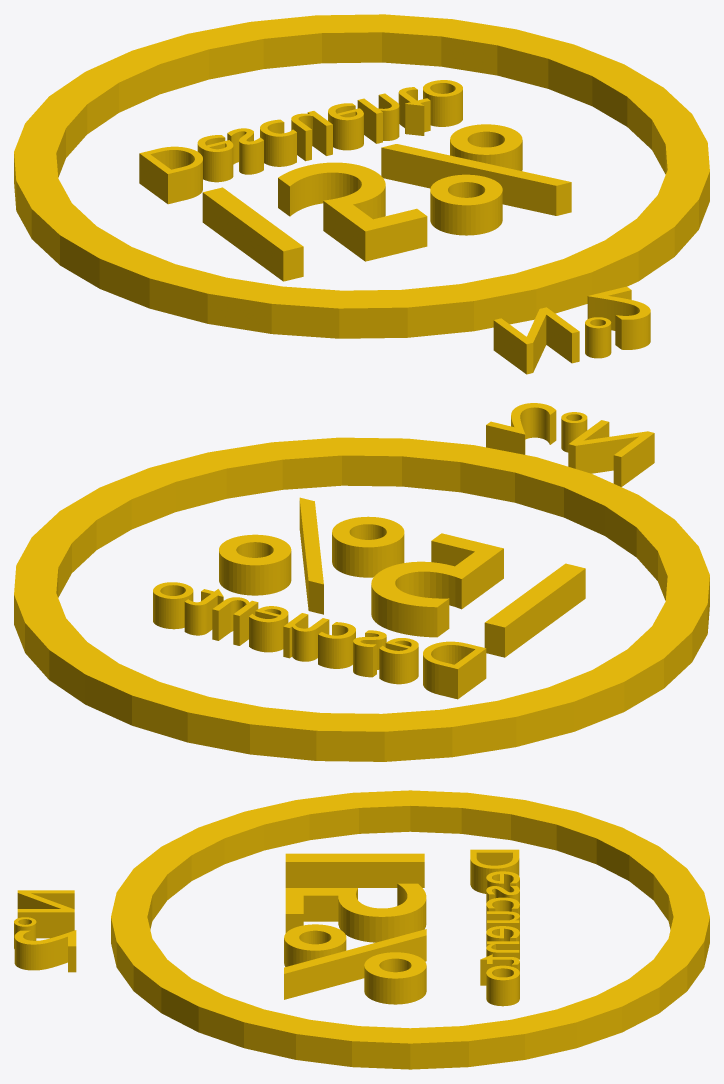
Rendered from circuloquince2.glb.
3 renders of one model, top to bottom at view 1: azimuth 30°, elevation 25°; view 2: azimuth 150°, elevation 25°; view 3: azimuth 270°, elevation 25°, orthographic. The views are drawn at different scales.
Visible parts, largest first — view 1: Text.001; view 2: Text.001; view 3: Text.001.
Boxes of the visible parts, x1,y1,x2,y2 form: Text.001: (14, 14, 709, 374); Text.001: (14, 403, 709, 761); Text.001: (14, 790, 709, 1069).
Size of the model in its own units: 0.5021 by 0.0246 by 0.5834.
